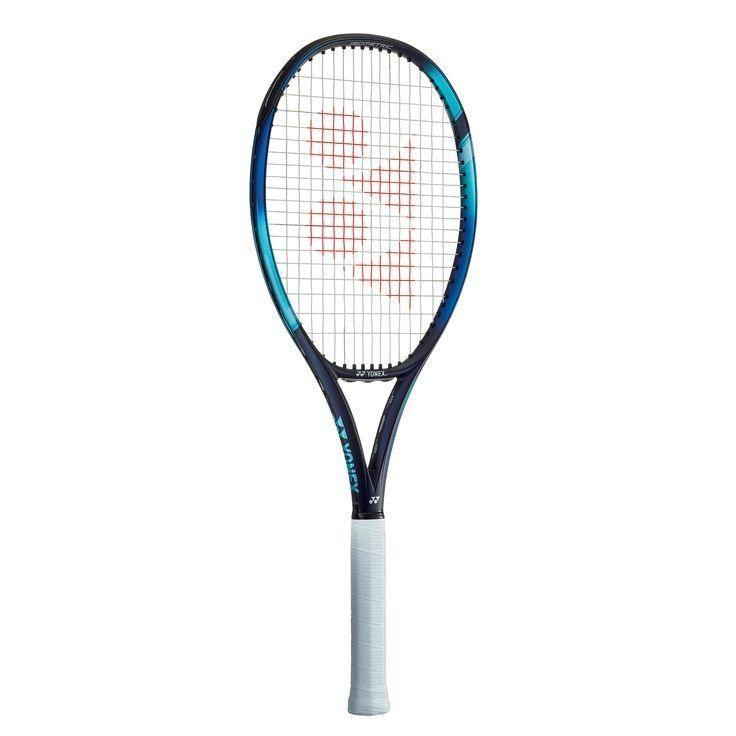Tennis-Racket: (255, 37, 470, 710)
